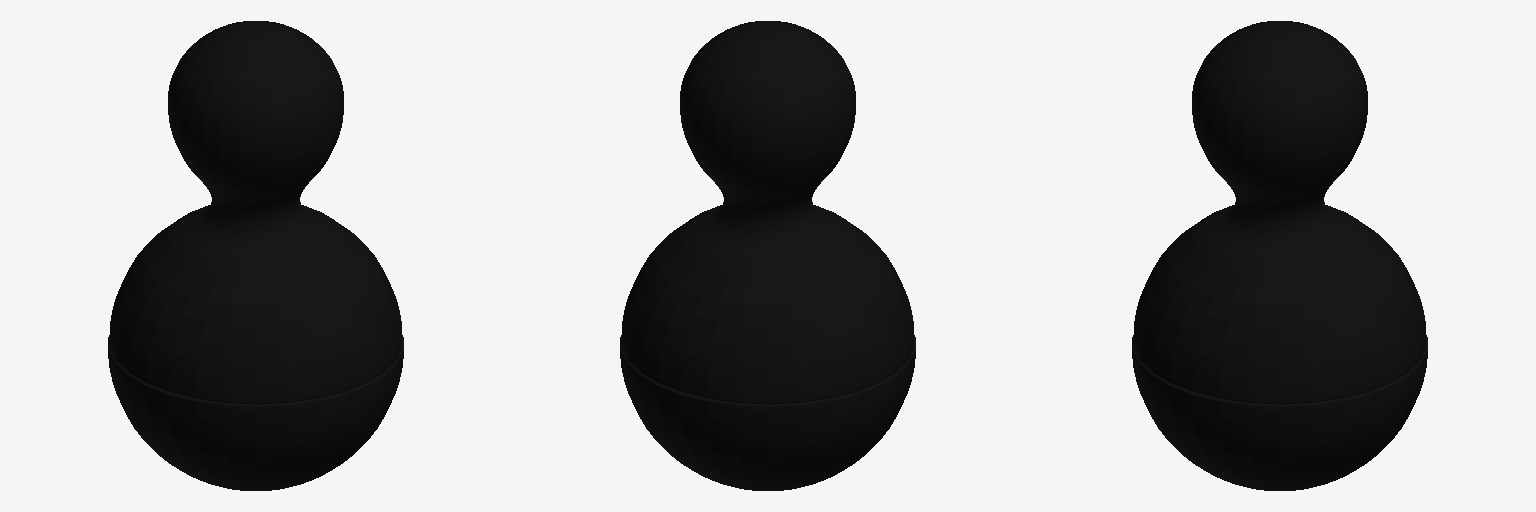
robot.urdf — pawn_b:
<?xml version="1.0"?>
<robot name="pawn_b">
  <link name="base_link">
    <visual>
      <origin xyz="0 0 0" rpy="0 0 0"/>
      <geometry>
        <mesh filename="./meshes/Pawn.stl" scale="0.003 0.003 0.003"/>
      </geometry>
      <material name="pawn_material">
        <color rgba="0.1 0.1 0.1 1.0"/>
      </material>
    </visual>
    <collision>
      <origin xyz="0 0 0.025" rpy="0 0 0"/>
      <geometry>
        <cylinder radius="0.012" length="0.05"/>
      </geometry>
    </collision>
    <inertial>
      <origin xyz="0 0 0.025" rpy="0 0 0"/>
      <mass value="0.04"/> <!-- 40 grams, or adjust -->
      <inertia
        ixx="0.00005" ixy="0.0" ixz="0.0"
        iyy="0.00005" iyz="0.0"
        izz="0.00001"/>
    </inertial>
  </link>
</robot>

--- Facts derived from the render (not from the file) ---
3 views of the same robot in one strip: view 1: azimuth 30°, elevation 25°; view 2: azimuth 150°, elevation 25°; view 3: azimuth 270°, elevation 25° (orthographic).
Robot: pawn_b — 1 links, 0 joints (none); root link base_link; default pose: all joints at 0.
Links seen in each view (by area): view 1: base_link; view 2: base_link; view 3: base_link.
Boxes of the visible links, x1,y1,x2,y2 form: base_link: (108, 21, 403, 490); base_link: (620, 21, 915, 490); base_link: (1132, 21, 1427, 490).
Bounding box of the posed robot: 0.0375 × 0.0372 × 0.0623 m (x, y, z).
1 mesh visuals loaded from 1 distinct referenced files (1 binary STL).